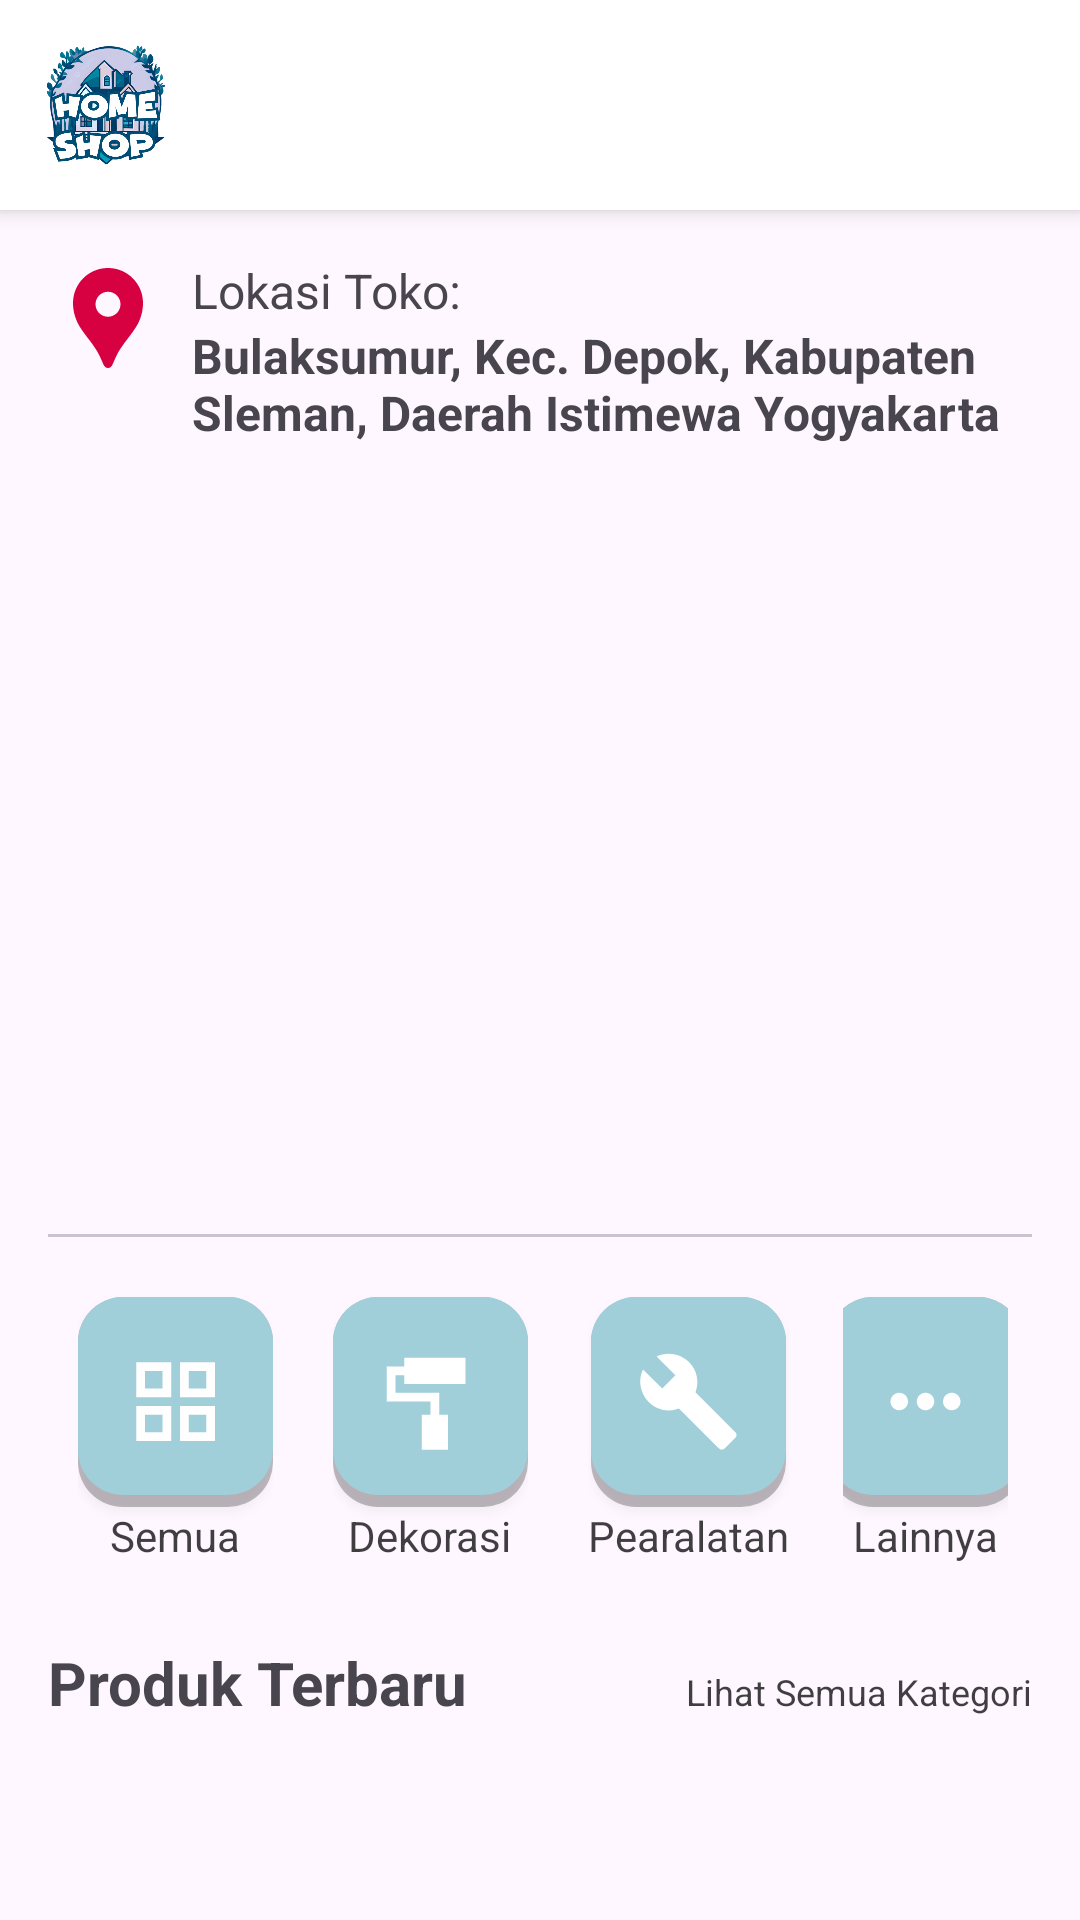

Icons on this 1080px x 1920px Android screen, each with the point to tap as point (x, y):
location pin: point (108, 318)
